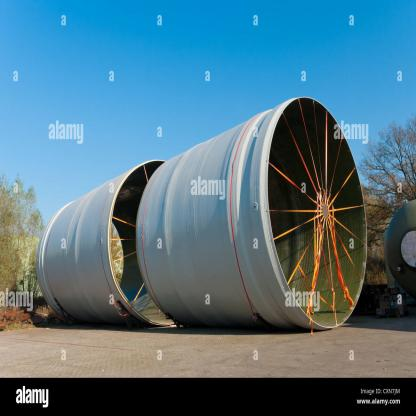PVC: (35, 95, 366, 333)
